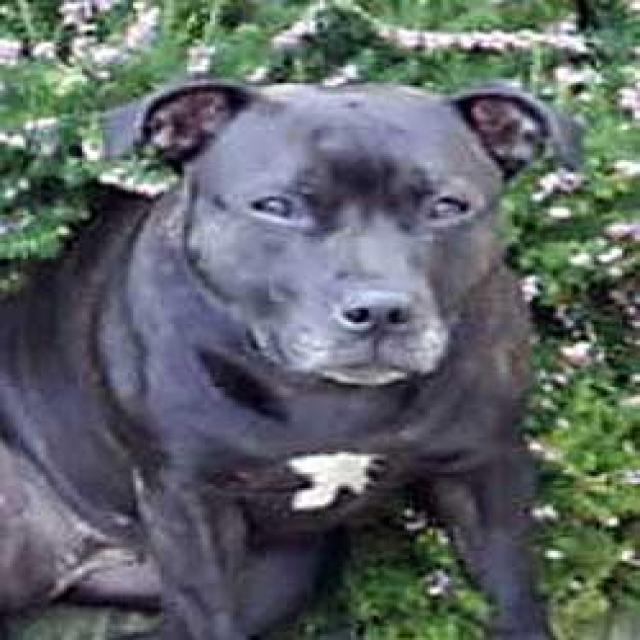staffordshire_bullterrier: (0, 81, 586, 638)
